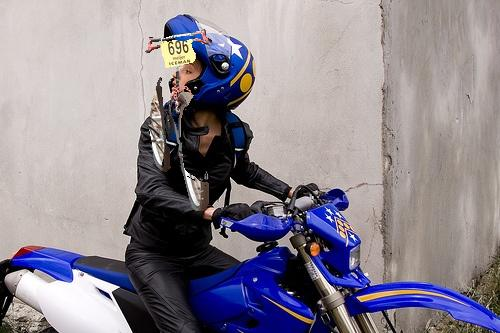tampered: (146, 30, 212, 211)
